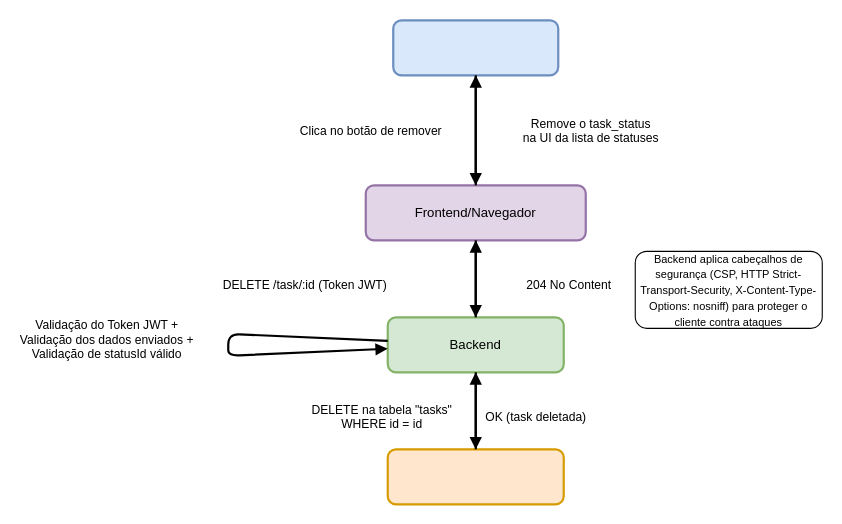
Image size: 842x524. Some labels were removed from this diagram. Here are the shapes that lost their labels. From the top down, the box of each, then its label:
(392, 19, 559, 76): Usuário
(386, 448, 564, 505): Banco de Dados
